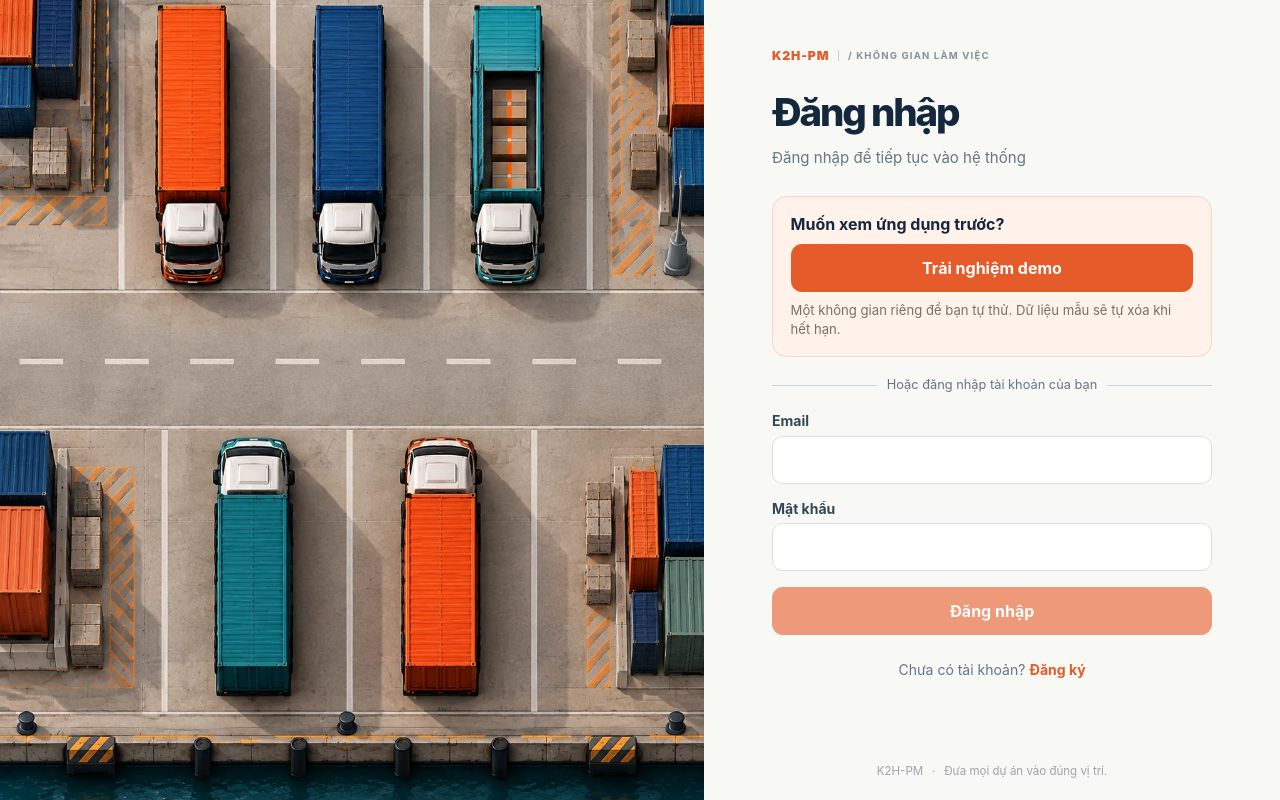
Test case: LoginPage › shows the same generic message for invalid credentials
In the field labelled "Email": (992, 460) [772, 436, 1212, 484], type "user@example.com"
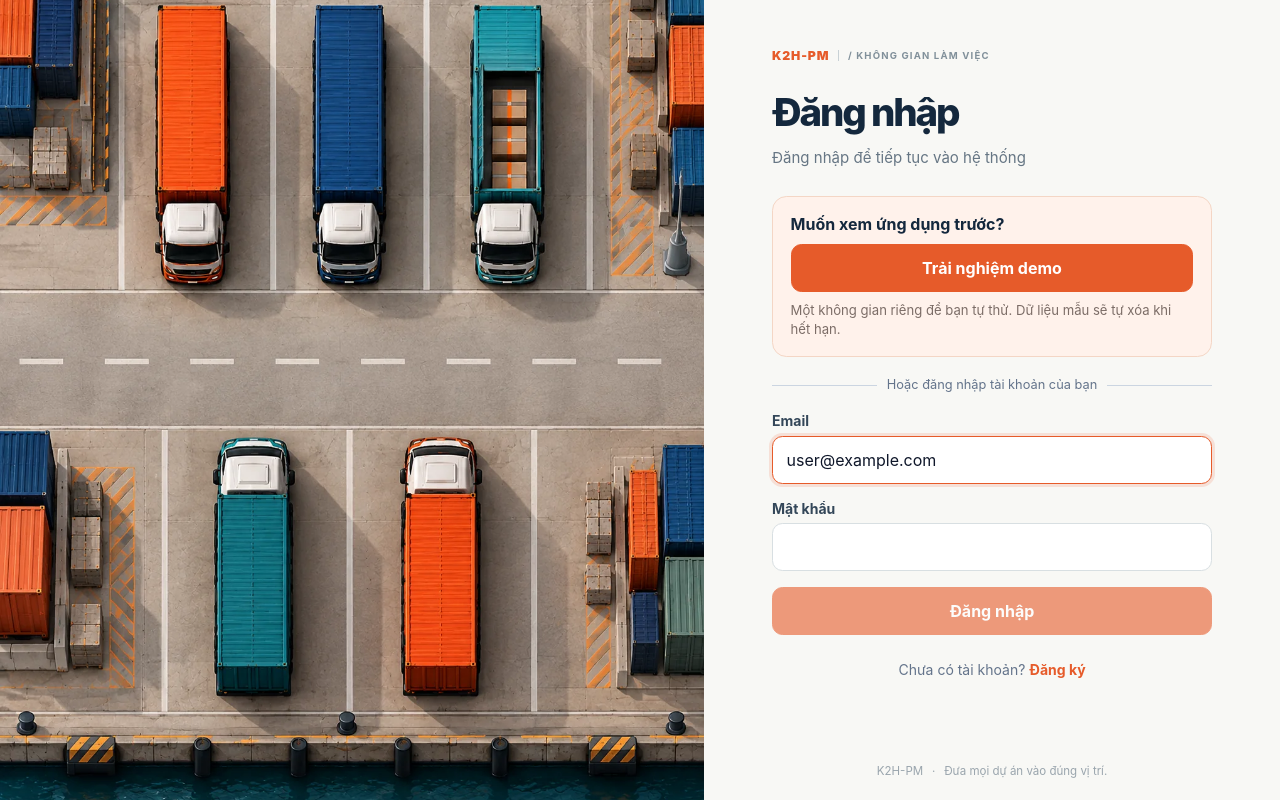
In the password field labelled "Mật khẩu": (992, 547) [772, 523, 1212, 571], type "wrong-password"
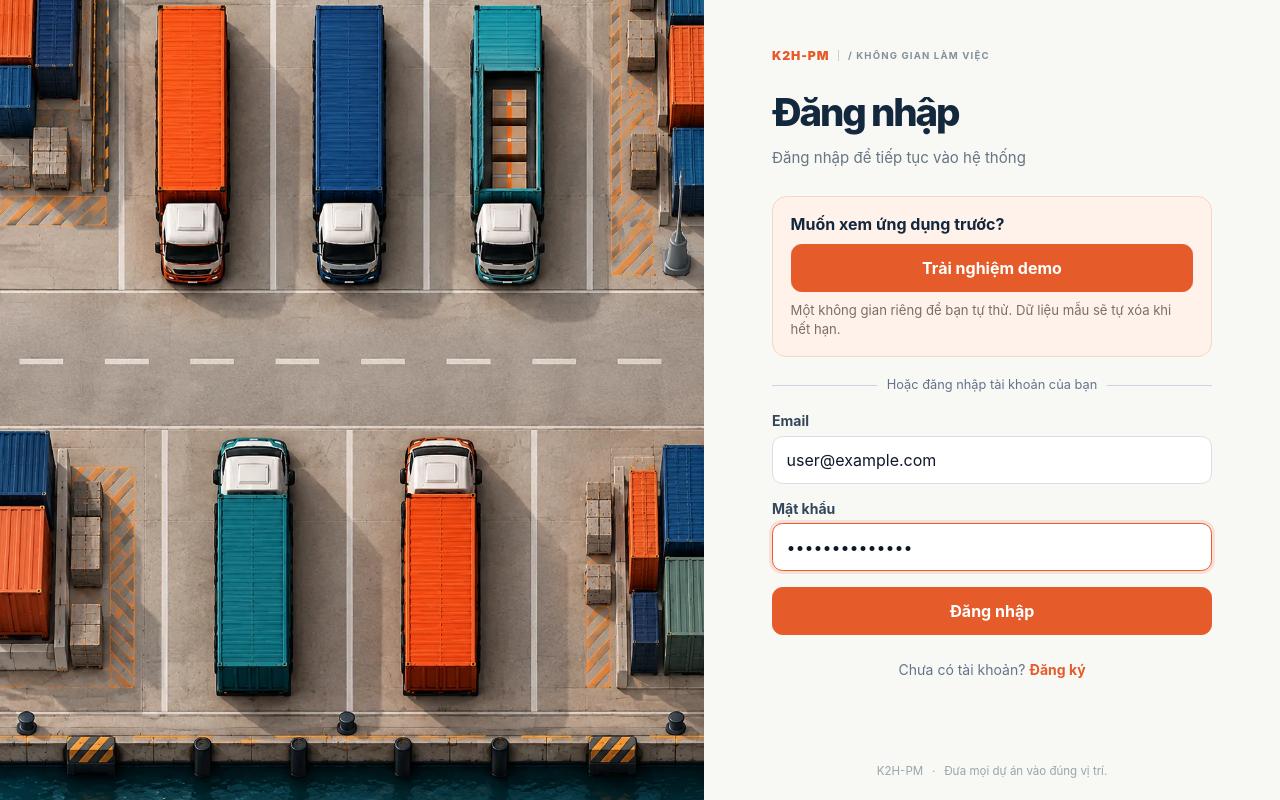
Click the button "Đăng nhập": (992, 611) [772, 587, 1212, 635]
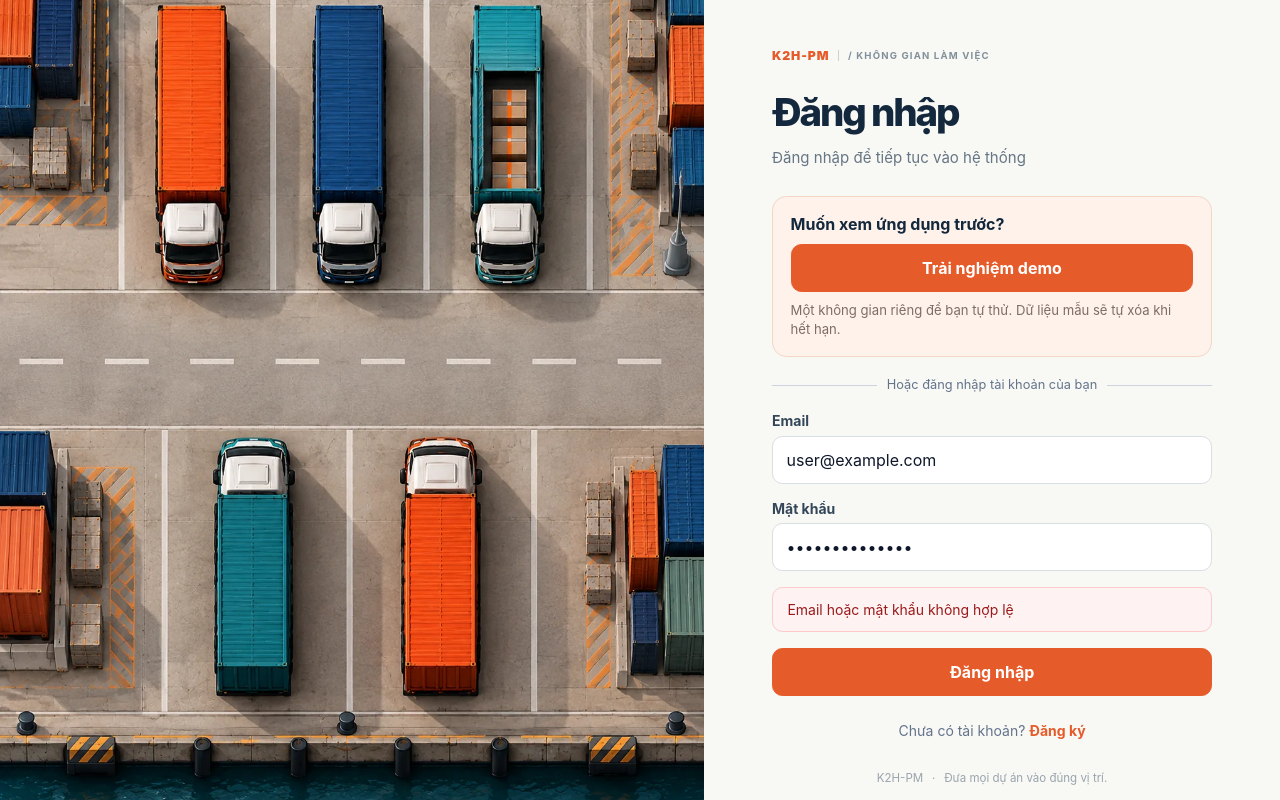
Now the text "Email hoặc mật khẩu không hợp lệ" is shown, box [772, 587, 1212, 632]
